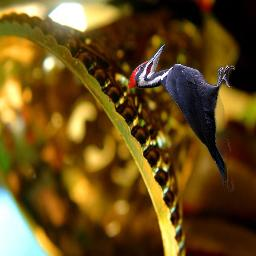Woodpecker: (128, 44, 236, 196)
